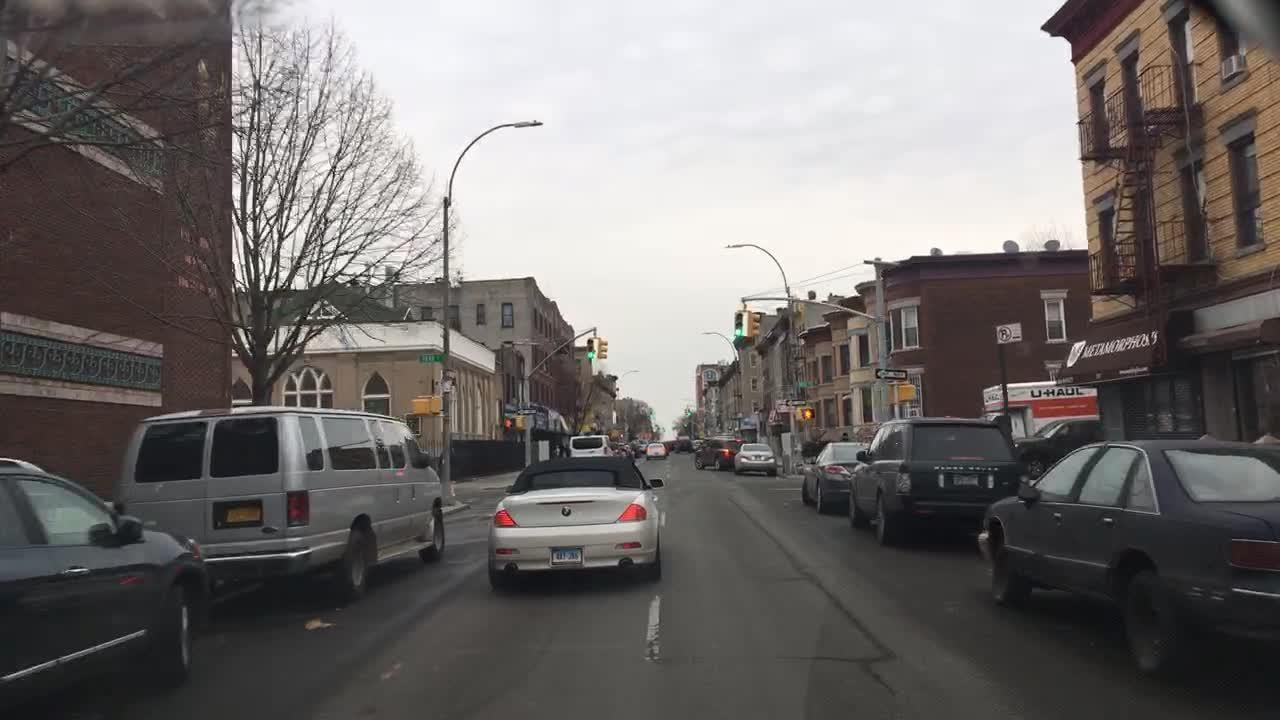bmw: (559, 505, 574, 520)
ford: (254, 525, 284, 542)
range rover: (929, 463, 1005, 476)
